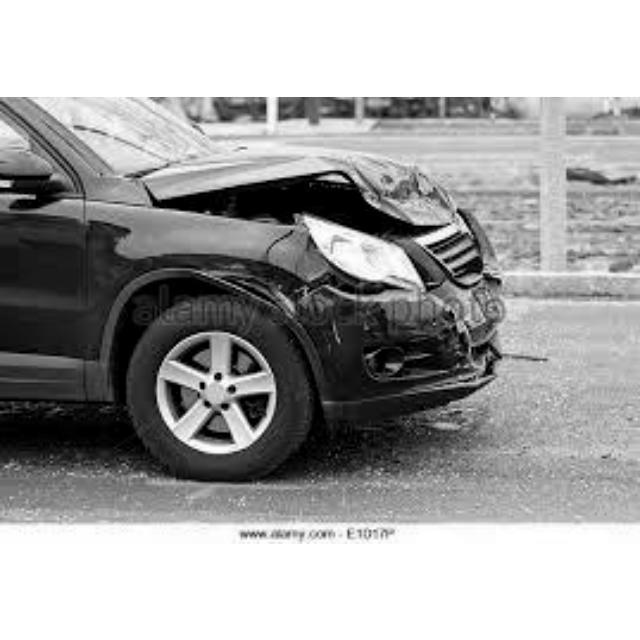bonnet-dent: (172, 149, 457, 232)
front-bumper-dent: (336, 279, 502, 393)
